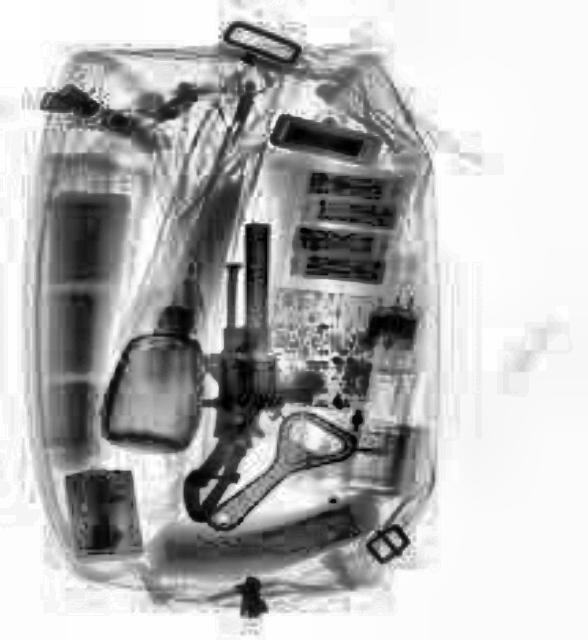Gun: (179, 220, 311, 520)
